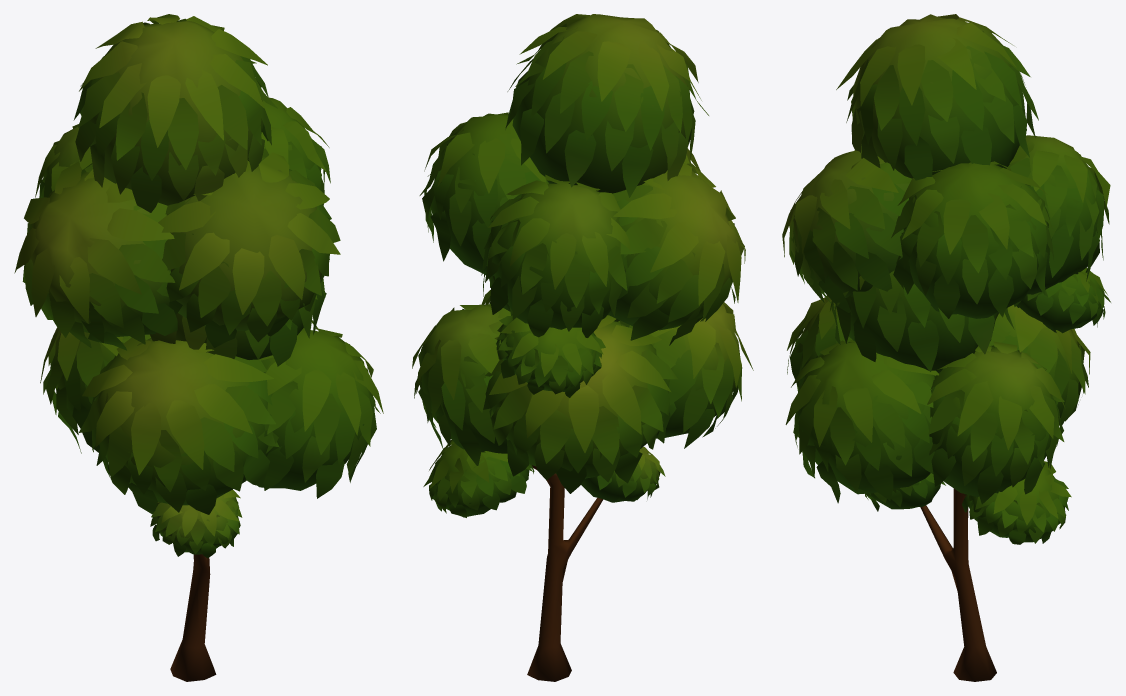
Rendered from Tree1.fbx.
3 views of the same model, side by side, from view 1: azimuth 30°, elevation 25°; view 2: azimuth 150°, elevation 25°; view 3: azimuth 270°, elevation 25° (orthographic). The views are drawn at different scales.
Visible parts, largest first — view 1: Sphere.101; view 2: Sphere.101; view 3: Sphere.101.
Boxes of the visible parts, x1,y1,x2,y2 form: Sphere.101: [14, 14, 383, 681]; Sphere.101: [412, 14, 753, 681]; Sphere.101: [782, 14, 1110, 681].
Size of the model in its own units: 355 by 353 by 748.
